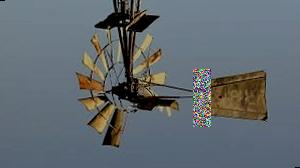faulty: (87, 47, 174, 132)
